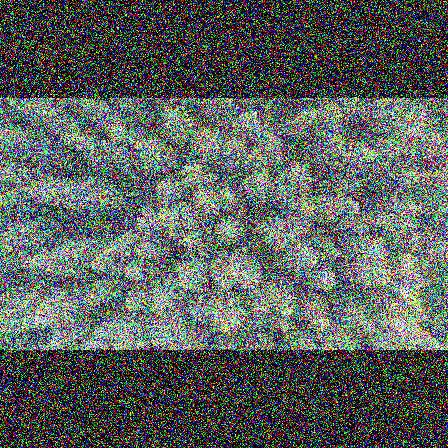Sick: (271, 179, 290, 205), (175, 206, 199, 225), (228, 267, 247, 287), (276, 230, 291, 243)
